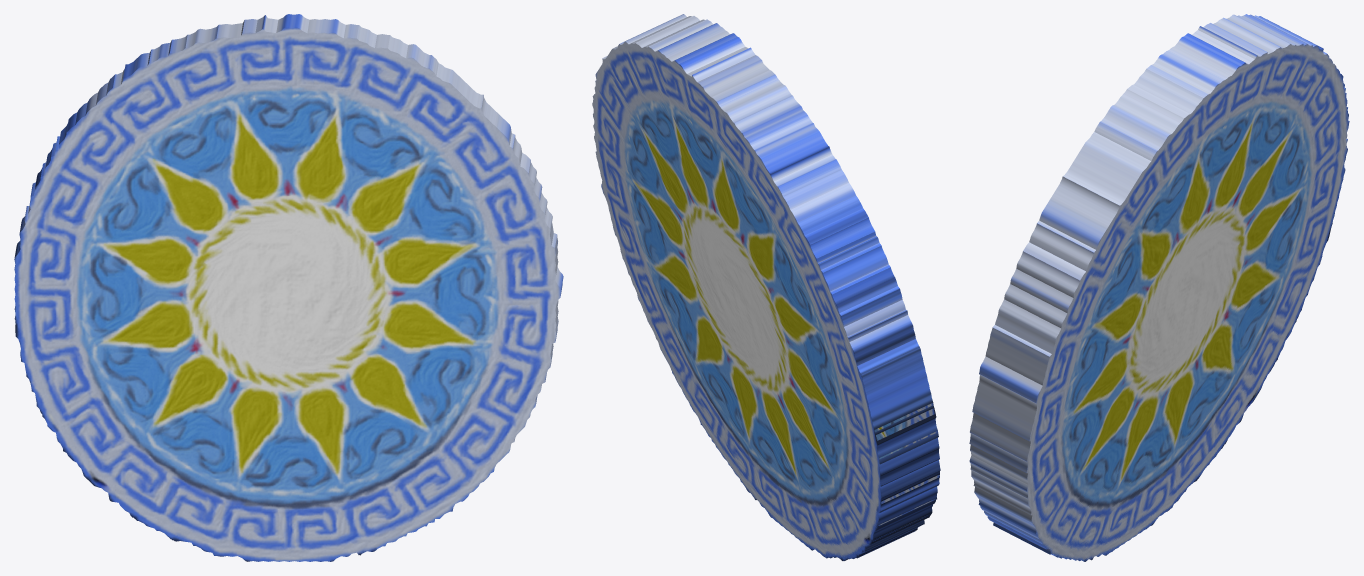
The model's file is diana_griega.fbx.
The picture shows the model from 3 angles, left to right: view 1: azimuth 30°, elevation 25°; view 2: azimuth 150°, elevation 25°; view 3: azimuth 270°, elevation 25°; orthographic projection. The views are drawn at different scales.
Parts seen in each view (by area): view 1: diana_griega; view 2: diana_griega; view 3: diana_griega.
Part boxes in pixels (<box>): diana_griega: <box>14,14,563,561</box>; diana_griega: <box>592,14,940,560</box>; diana_griega: <box>969,14,1349,561</box>.
Bounding box in the file's own units: 47.07 × 51.13 × 33.95.
Materials: 1 (1 with a texture image).
